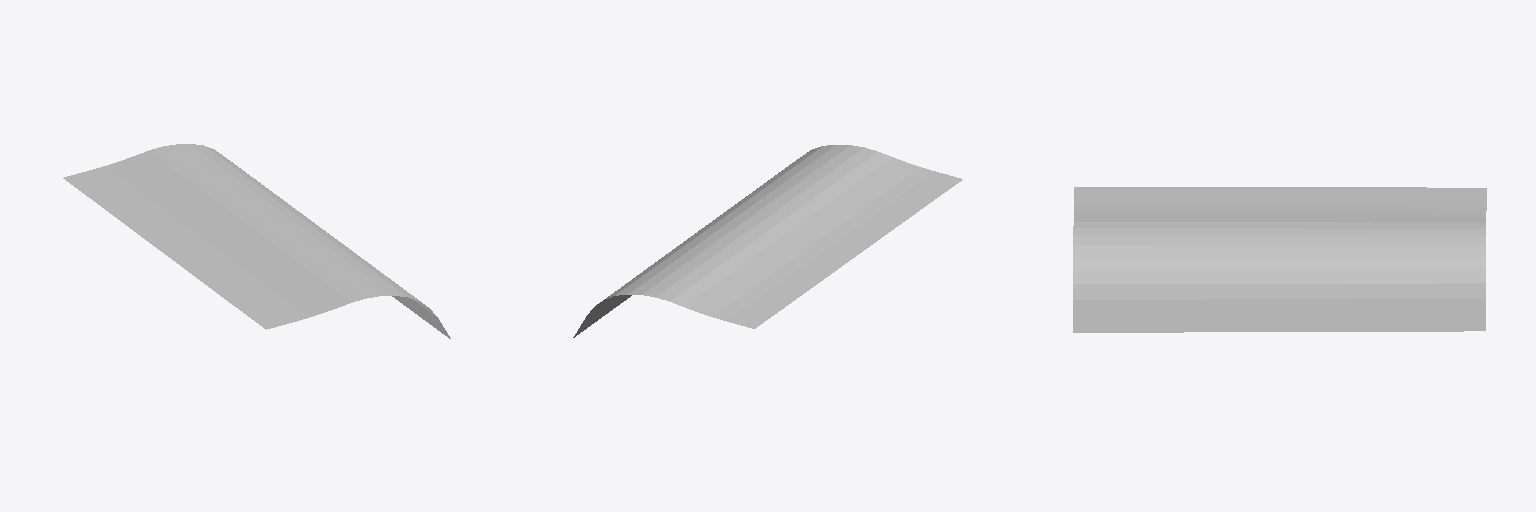
File: page0002.obj
3 renders of one model, left to right at view 1: azimuth 30°, elevation 25°; view 2: azimuth 150°, elevation 25°; view 3: azimuth 270°, elevation 25°, orthographic.
Bounding box in the file's own units: 260 × 84.56 × 502.